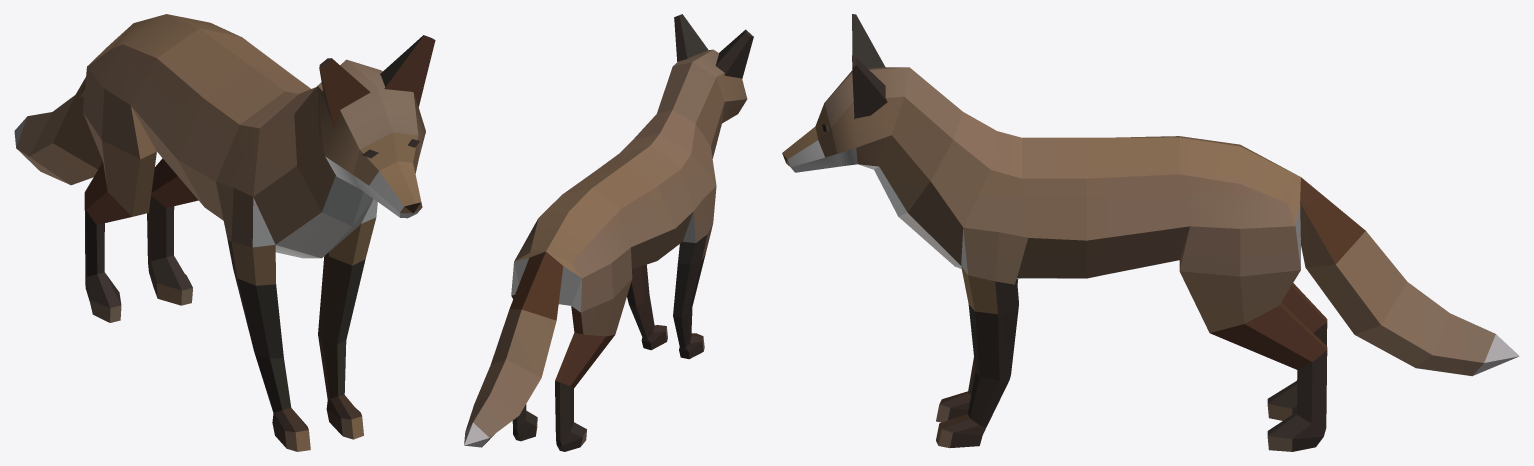
The model's file is animals-fox-098.glb.
The picture shows the model from 3 angles, left to right: view 1: azimuth 30°, elevation 25°; view 2: azimuth 150°, elevation 25°; view 3: azimuth 270°, elevation 25°; orthographic projection. The views are drawn at different scales.
Visible parts, largest first — view 1: Geo_Fox; view 2: Geo_Fox; view 3: Geo_Fox.
Boxes of the visible parts, x1,y1,x2,y2 form: Geo_Fox: (14,14,435,451); Geo_Fox: (464,14,753,451); Geo_Fox: (782,14,1519,451).
Bounding box in the file's own units: 19.71 × 56.4 × 94.94.
Materials: 1 (1 with a texture image).
